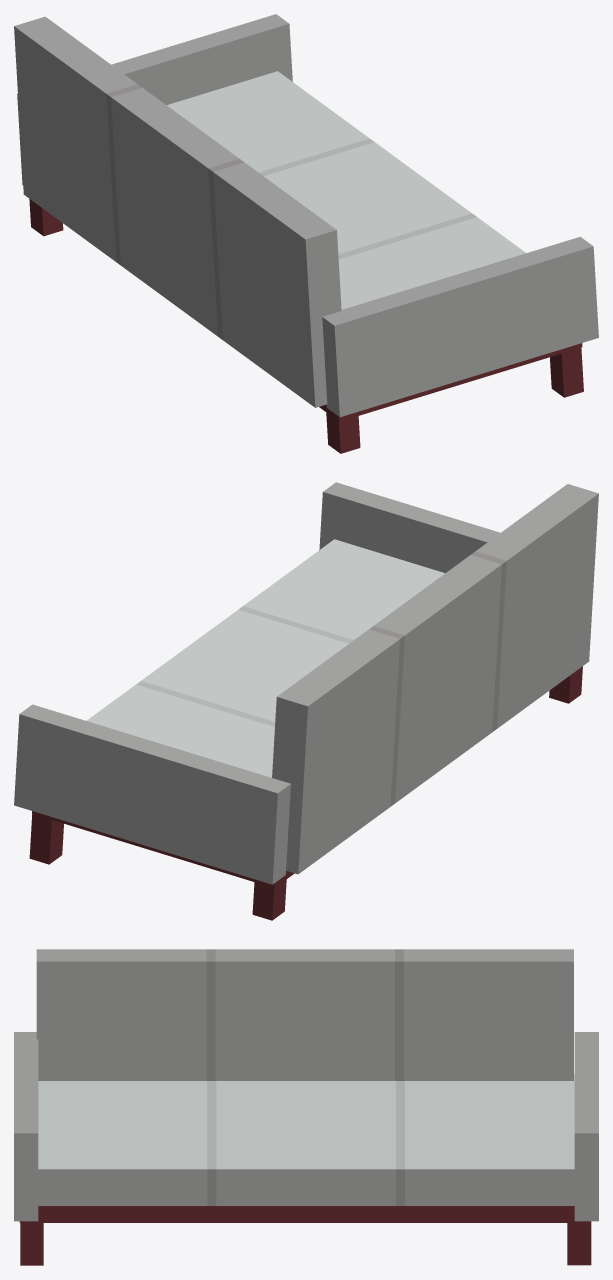
File: white_armchair.obj
The picture shows the model from 3 angles, top to bottom: view 1: azimuth 30°, elevation 25°; view 2: azimuth 150°, elevation 25°; view 3: azimuth 270°, elevation 25°; orthographic projection. The views are drawn at different scales.
Visible parts, largest first — view 1: polySurface5; view 2: polySurface5; view 3: polySurface5.
Part boxes in pixels (left/top/right/bottom): polySurface5: left=14, top=14, right=598, bottom=453; polySurface5: left=14, top=482, right=598, bottom=920; polySurface5: left=14, top=949, right=598, bottom=1265.
Bounding box in the file's own units: 1.91 × 1.4 × 3.73.
Materials: 5 (5 with a texture image).
